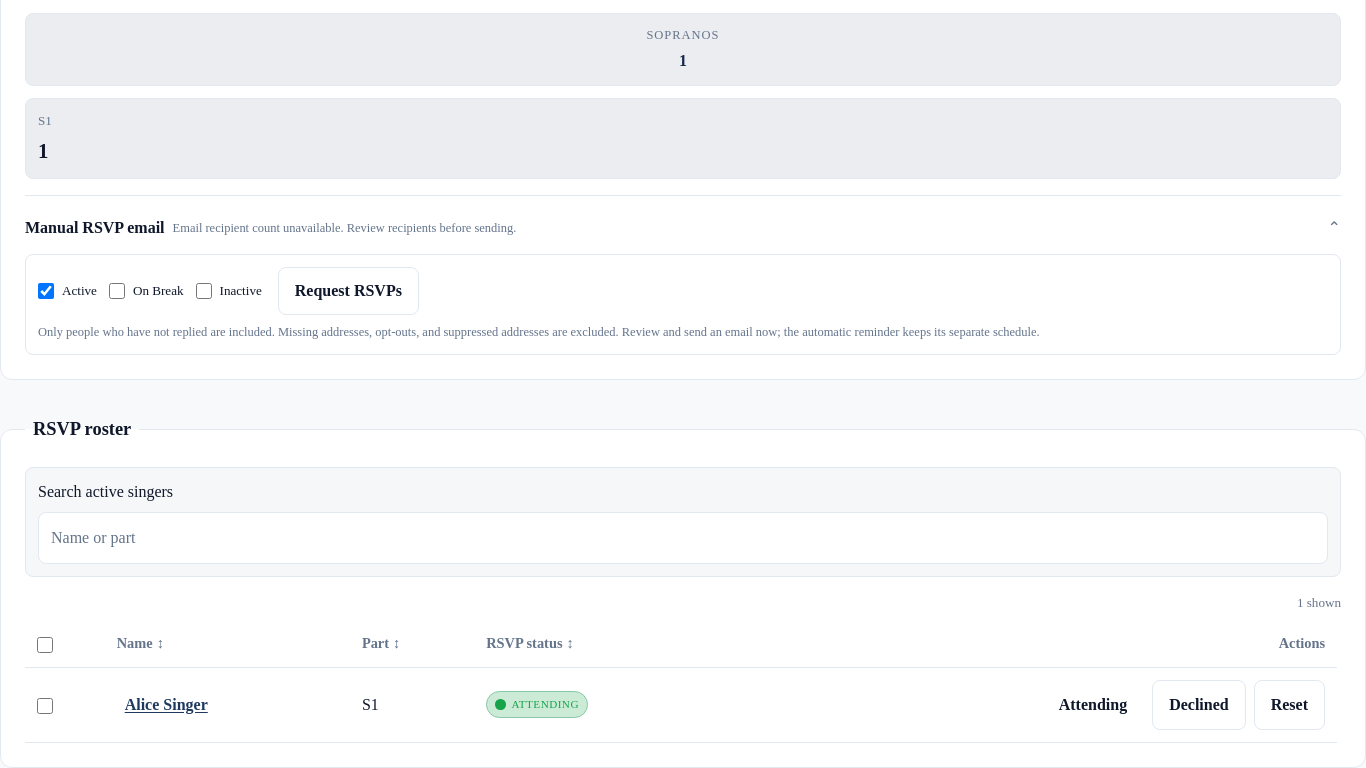
Test: RsvpManagerPage toast feedback (#185) › renders success feedback as floating toast with role='status' and dismiss button
(page scrolled)
Click the button with aria-label "Open profile for Alice Singer": x=166, y=704 [117,684,216,724]
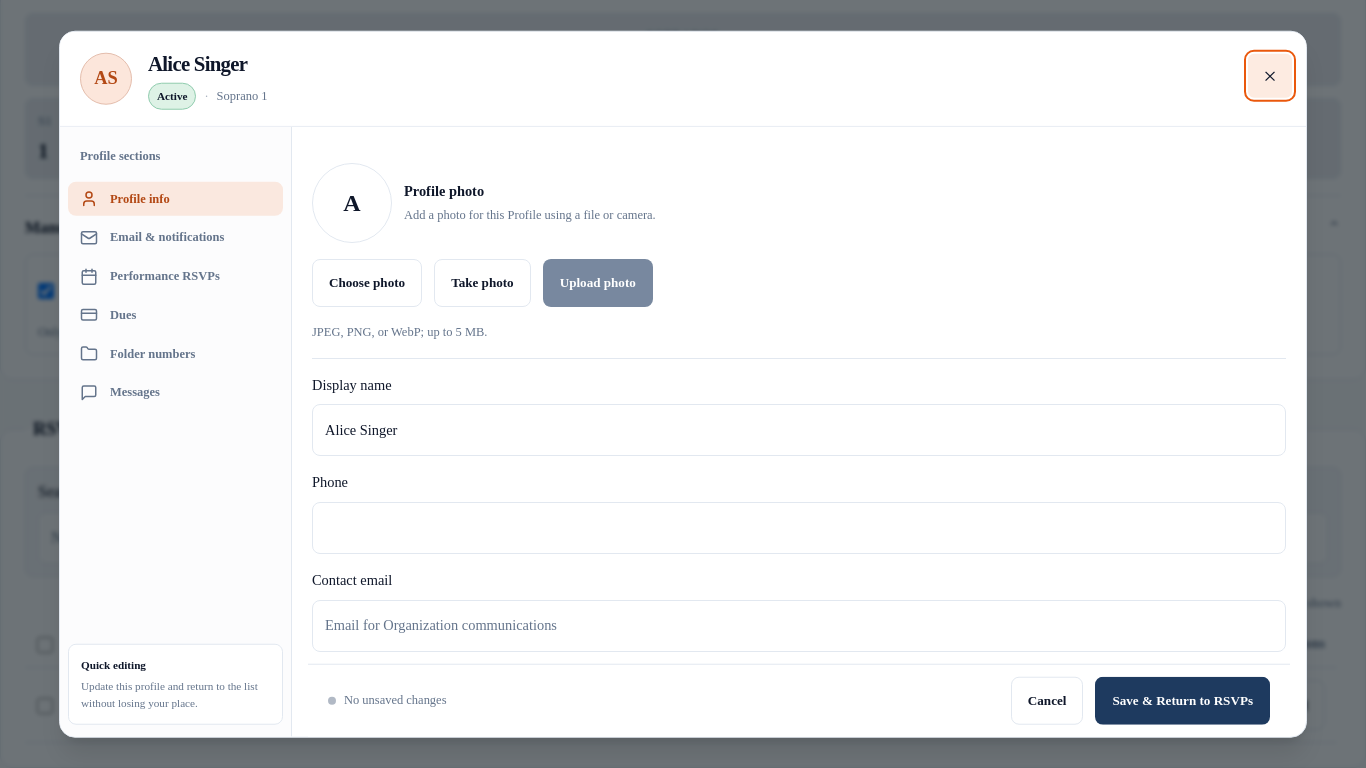
Click the button "Save & Return to RSVPs": x=1183, y=700 [1095,676,1270,724]
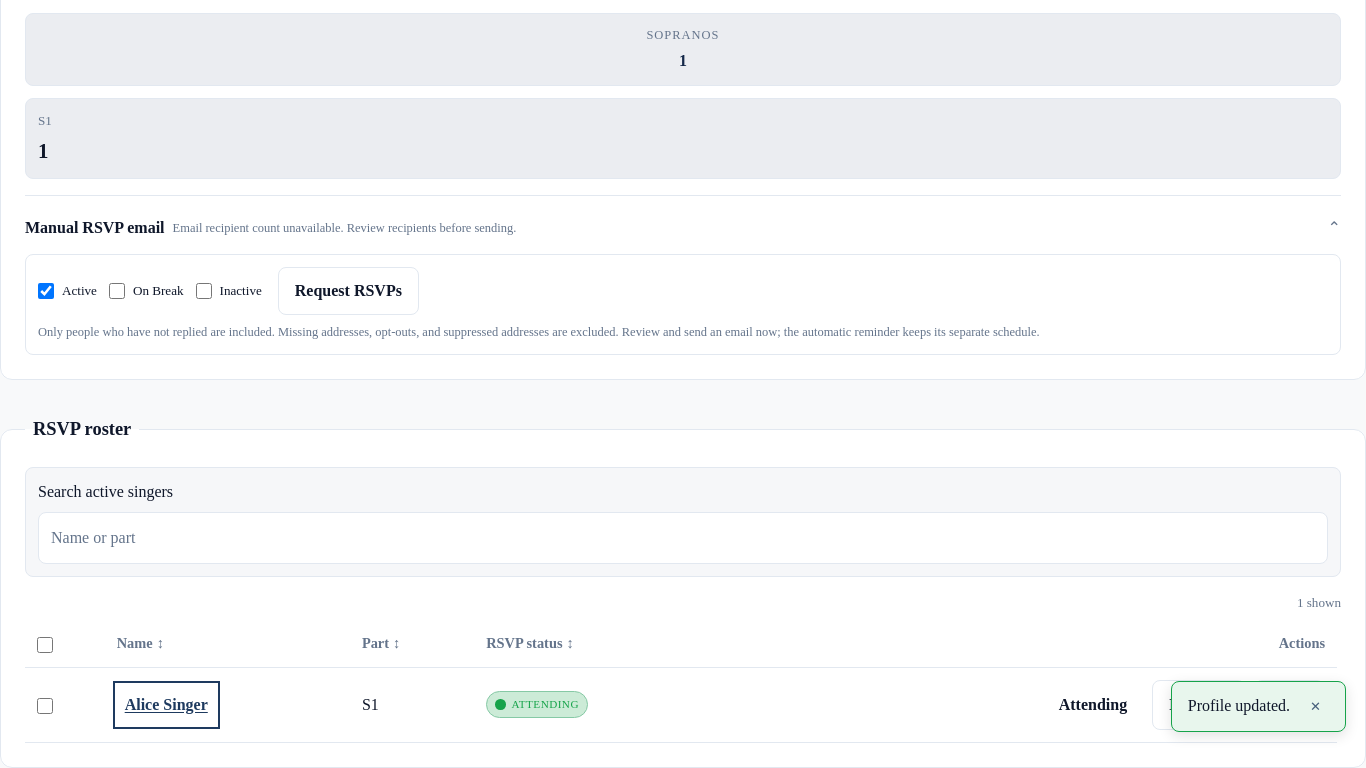
Expected: the message shows "Profile updated.", [1188,697,1290,714]
Expected: the element showing "Profile updated. ✕" is shown, [1171,665,1346,748]
Click the button named "Dismiss notification": x=1316, y=706 [1302,694,1329,719]
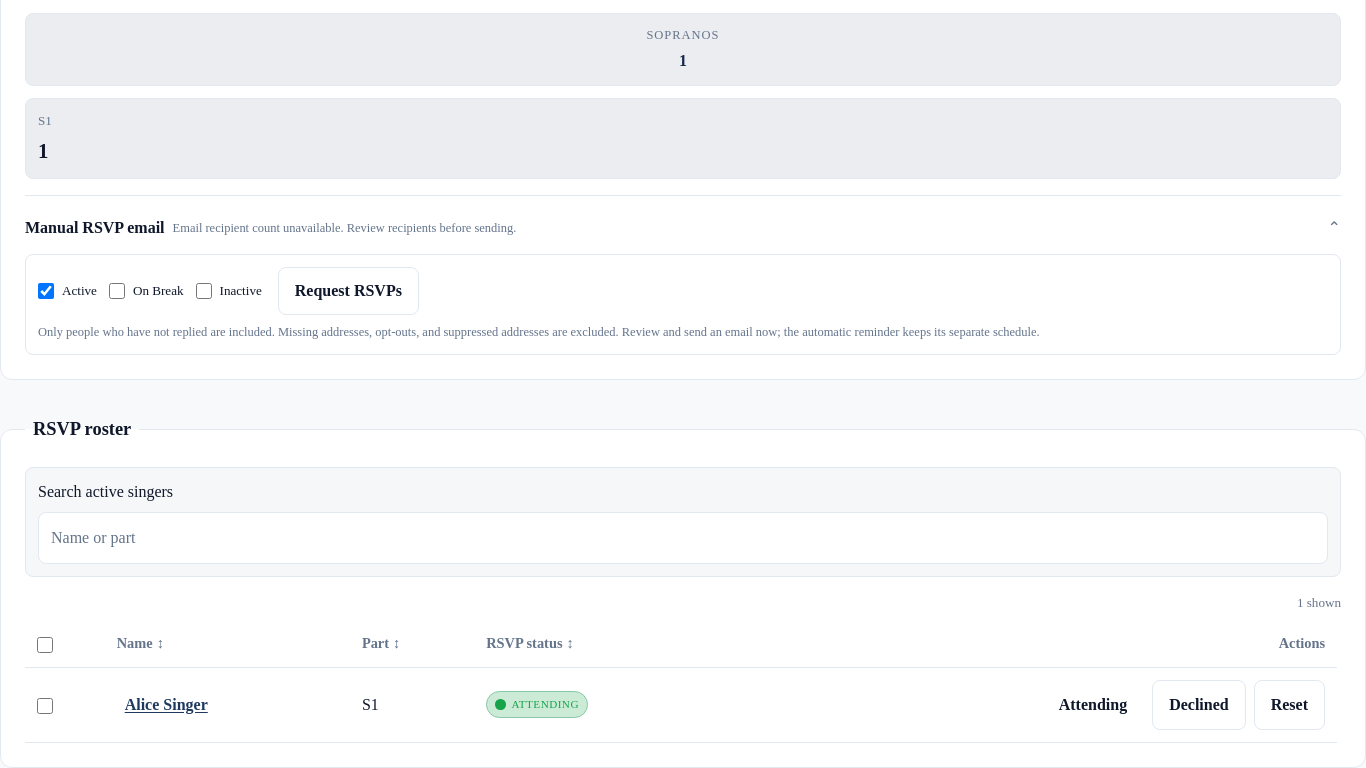
Expected: the text "Profile updated." is gone
